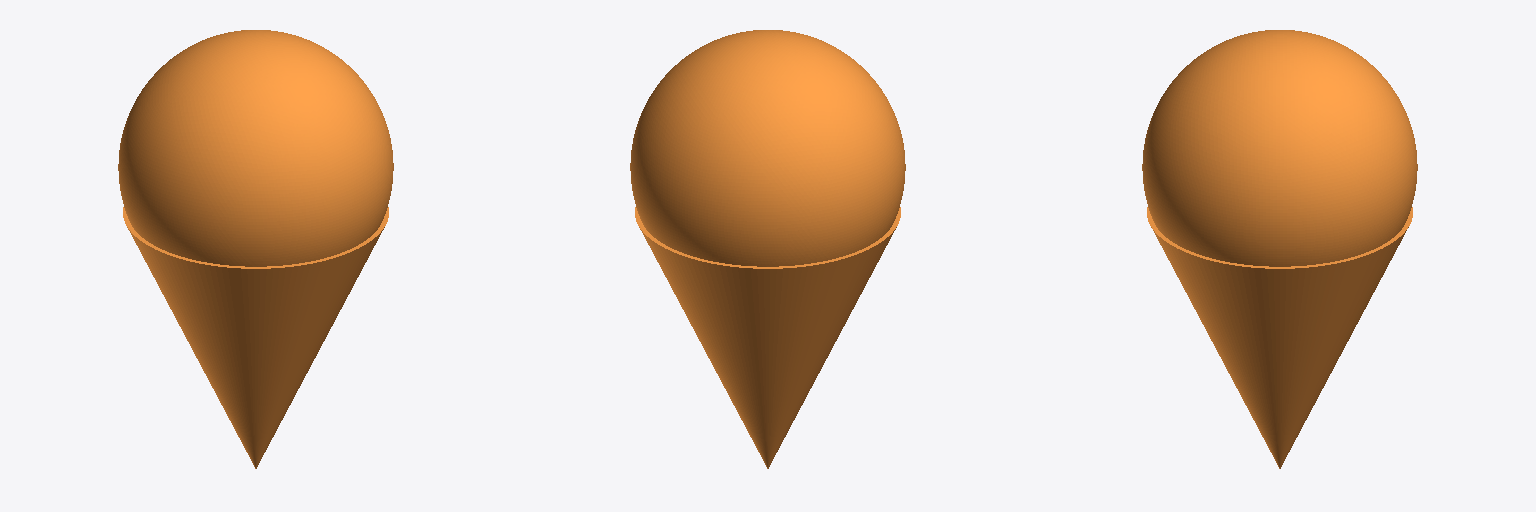
File: marker.obj
3 views of the same model, side by side, from view 1: azimuth 30°, elevation 25°; view 2: azimuth 150°, elevation 25°; view 3: azimuth 270°, elevation 25° (orthographic).
Visible parts, largest first — view 1: Sphere_6, Cone_6; view 2: Sphere_6, Cone_6; view 3: Sphere_6, Cone_6.
Part boxes in pixels (x1,y1,x2,y2): Sphere_6: (118, 30, 393, 266); Cone_6: (123, 207, 388, 468); Sphere_6: (630, 30, 905, 266); Cone_6: (635, 207, 900, 468); Sphere_6: (1142, 30, 1417, 266); Cone_6: (1147, 207, 1412, 468).
Size of the model in its own units: 0.33 by 0.565 by 0.33.